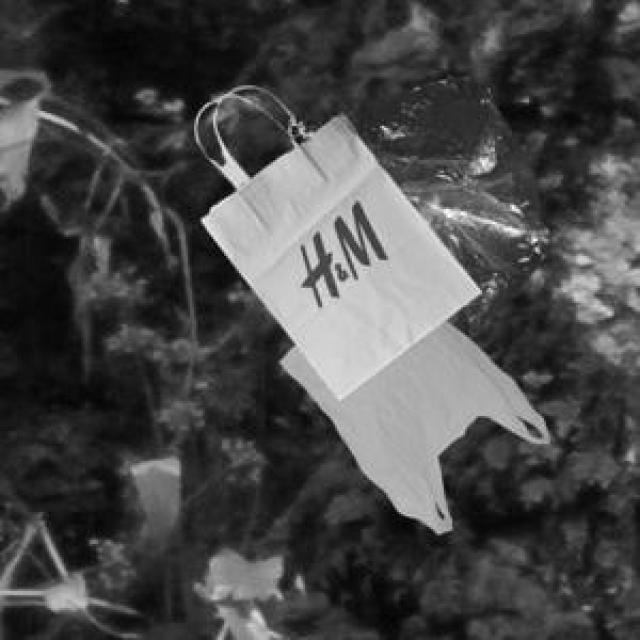paper: (198, 109, 478, 395)
